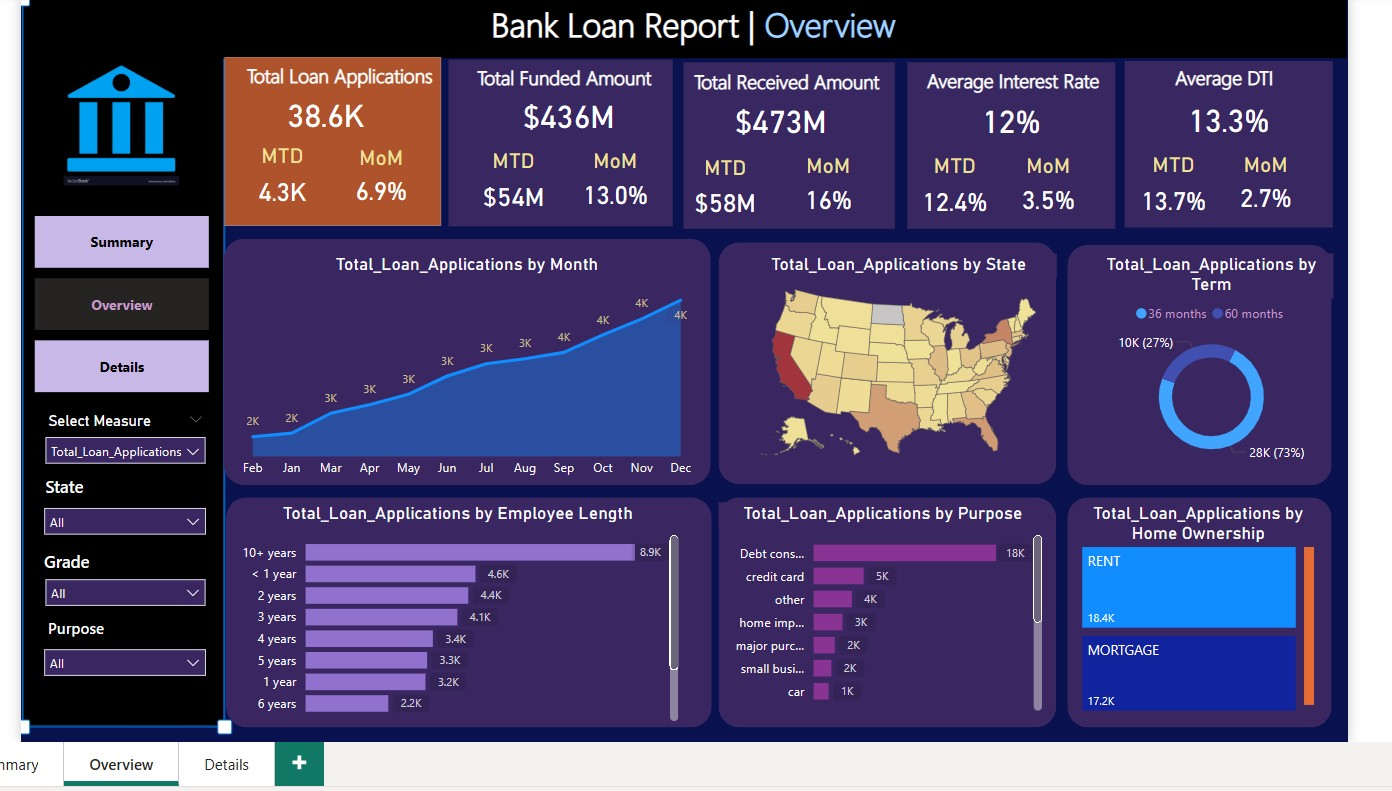

This screenshot's page, from the dashboard's own definition file:
{"tool":"powerbi","page":{"name":"Overview","canvas":[1280,720],"ordinal":1},"visuals":[{"type":"shape","box":[1.4,2.9,194.8,702.6],"z":0},{"type":"shape","box":[1065.1,63.3,201,160.8],"z":0,"group":"g4"},{"type":"shape","box":[855.1,63.5,201,160.8],"z":0,"group":"g3"},{"type":"shape","box":[195.8,233.9,470.3,238.1],"z":0,"group":"g5"},{"type":"textbox","box":[10.8,0,1269.2,60.3],"z":1000},{"type":"card","fields":{"Values":["Bank_loan_data.Average_Debit_To_Income"]},"box":[1089.8,88.1,150,61.8],"z":1000,"group":"g4"},{"type":"card","fields":{"Values":["Bank_loan_data.Average_Interest_Rate"]},"box":[879.9,88.2,150,61.8],"z":1000,"group":"g3"},{"type":"card","title":"MTD","fields":{"Values":["Bank_loan_data.MonthToDate_Average_DTI"]},"box":[1062,151.5,98.9,69.6],"z":2000,"group":"g4"},{"type":"card","title":"MTD","fields":{"Values":["Bank_loan_data.MonthToDate_Average_Interest_Rate"]},"box":[852.1,151.6,98.9,69.6],"z":2000,"group":"g3"},{"type":"shape","box":[673.8,238.1,326.1,233.7],"z":2000},{"type":"textbox","box":[397.3,0,504,68],"z":3000},{"type":"shape","box":[197.5,60.2,208.6,162.2],"z":3000,"group":"g1"},{"type":"shape","box":[412.5,61.8,216.4,160.8],"z":3000,"group":"g2"},{"type":"card","title":"MoM","fields":{"Values":["Bank_loan_data.MonthOnMonth_Avg_DTI"]},"box":[1136.2,151.5,129.9,64.9],"z":3000,"group":"g4"},{"type":"card","title":"MoM","fields":{"Values":["Bank_loan_data.MonthOnMonth_Avg_Interest_Rate"]},"box":[926.3,151.6,129.9,64.9],"z":3000,"group":"g3"},{"type":"textbox","box":[1041.9,61.8,238.1,38.6],"z":4000,"group":"g4"},{"type":"shape","box":[640,63.4,204.1,160.8],"z":4000},{"type":"textbox","box":[838.2,63.8,238.1,38.6],"z":4000,"group":"g3"},{"type":"card","fields":{"Values":["Bank_loan_data.Total_Loan_Applications"]},"box":[220.5,84.4,149.5,60.5],"z":4000,"group":"g1"},{"type":"card","fields":{"Values":["Bank_loan_data.Total_funded_Amount"]},"box":[452.8,84.9,150,60.3],"z":4000,"group":"g2"},{"type":"textbox","box":[197,59.7,222.2,37.5],"z":5000,"group":"g1"},{"type":"textbox","box":[405,61.8,238.1,37.1],"z":5000,"group":"g2"},{"type":"card","fields":{"Values":["Bank_loan_data.Total_Amount_Received"]},"box":[657,89.7,151.5,61.8],"z":5000},{"type":"textbox","box":[619.9,64.9,238.1,38.6],"z":6000},{"type":"card","title":"MTD","fields":{"Values":["Bank_loan_data.MonthToDate_Loan_Applications"]},"box":[203.6,143,99.3,69.5],"z":6000,"group":"g1"},{"type":"card","title":"MTD","fields":{"Values":["Bank_loan_data.MTD Funded Amount"]},"box":[425.8,147.4,98.9,69.6],"z":6000,"group":"g2"},{"type":"card","title":"MoM","fields":{"Values":["Bank_loan_data.MonthOnMonth_Loan_Application"]},"box":[282.5,144.1,130.8,64.6],"z":7000,"group":"g1"},{"type":"card","title":"MoM","fields":{"Values":["Bank_loan_data.MonthOnMonth_Funded_Amount"]},"box":[507.7,147.4,131.4,64.9],"z":7000,"group":"g2"},{"type":"card","title":"MTD","fields":{"Values":["Bank_loan_data.MonthToDate_Total_amount_Received"]},"box":[630.7,153,97.4,69.6],"z":7000},{"type":"card","title":"MoM","fields":{"Values":["Bank_loan_data.MonthOnMonth_Amount_Received"]},"box":[714.2,151.5,129.9,64.9],"z":8000},{"type":"group","id":"g1","title":"Group 1","box":[197,59.7,222.2,162.7],"z":9000},{"type":"group","id":"g2","title":"Group 1","box":[405,61.8,238.1,160.8],"z":10000},{"type":"group","id":"g3","title":"Group 2","box":[838.2,63.5,238.1,160.1],"z":11000},{"type":"group","id":"g4","title":"Group 2","box":[1041.9,61.8,238.1,162.3],"z":12000},{"type":"group","id":"g5","title":"Group 3","box":[195.8,233.9,470.3,238.1],"z":13000},{"type":"slicer","fields":{"Values":["Bank_loan_data.address_state"]},"box":[11.5,483.3,176,54.8],"z":14000},{"type":"shape","box":[1.7,458.6,81.1,29.8],"z":15000},{"type":"slicer","fields":{"Values":["Bank_loan_data.grade"]},"box":[13,552.6,174.6,54.8],"z":16000},{"type":"slicer","fields":{"Values":["Bank_loan_data.purpose"]},"box":[11.5,620.4,176,56.3],"z":17000},{"type":"shape","box":[6.6,526.4,76.2,39.7],"z":18000},{"type":"shape","box":[6,596,94.1,26.5],"z":19000},{"type":"areaChart","fields":{"Y":["Bank_loan_data.Total_Loan_Applications"],"Category":["Date Table.Month"]},"box":[203.4,248.2,453,225.1],"z":20000},{"type":"slicer","fields":{"Values":["Select Measure.Select Measure"]},"box":[13,396.8,174.6,76.5],"z":21000},{"type":"shapeMap","fields":{"Value":["Bank_loan_data.Total_Loan_Applications"],"Category":["Bank_loan_data.address_state"]},"box":[695.4,248.2,304.4,210.6],"z":22000},{"type":"shape","box":[1009.9,239.5,255.4,232.3],"z":23000},{"type":"donutChart","fields":{"Y":["Bank_loan_data.Total_Loan_Applications"],"Category":["Bank_loan_data.term"]},"box":[1031.6,248.2,235.2,210.6],"z":24000},{"type":"shape","box":[197.7,483.3,468.9,222.2],"z":25000},{"type":"barChart","fields":{"Y":["Bank_loan_data.Total_Loan_Applications"],"Category":["Bank_loan_data.emp_length"]},"box":[203.4,489.1,435.7,216.4],"z":26000},{"type":"shape","box":[673.8,483.3,326.1,222.2],"z":27000},{"type":"barChart","fields":{"Y":["Bank_loan_data.Total_Loan_Applications"],"Category":["Bank_loan_data.purpose"]},"box":[673.8,489.1,317.4,206.3],"z":28000},{"type":"shape","box":[1009.9,483.3,255.4,222.2],"z":29000},{"type":"treemap","fields":{"Values":["Bank_loan_data.Total_Loan_Applications"],"Group":["Bank_loan_data.home_ownership"]},"box":[1020,489.1,233.7,206.3],"z":30000},{"type":"image","box":[5.8,57.7,181.8,129.8],"z":31000},{"type":"pageNavigator","box":[13,212.1,168.8,170.2],"z":32000}]}

Visuals, with their boxes on the page's 1280x720 design canvas (x1, y1, x2, y2). These are canvas units, not pixel positions in the 1392x791 screenshot, which may show the page scaled, cropped or inside an application window:
shape: [left=1, top=3, right=196, bottom=706]
shape: [left=1065, top=63, right=1266, bottom=224]
shape: [left=855, top=64, right=1056, bottom=224]
shape: [left=196, top=234, right=666, bottom=472]
textbox: [left=11, top=0, right=1280, bottom=60]
card - Bank_loan_data.Average_Debit_To_Income: [left=1090, top=88, right=1240, bottom=150]
card - Bank_loan_data.Average_Interest_Rate: [left=880, top=88, right=1030, bottom=150]
"MTD" card: [left=1062, top=152, right=1161, bottom=221]
"MTD" card: [left=852, top=152, right=951, bottom=221]
shape: [left=674, top=238, right=1000, bottom=472]
textbox: [left=397, top=0, right=901, bottom=68]
shape: [left=198, top=60, right=406, bottom=222]
shape: [left=412, top=62, right=629, bottom=223]
"MoM" card: [left=1136, top=152, right=1266, bottom=216]
"MoM" card: [left=926, top=152, right=1056, bottom=216]
textbox: [left=1042, top=62, right=1280, bottom=100]
shape: [left=640, top=63, right=844, bottom=224]
textbox: [left=838, top=64, right=1076, bottom=102]
card - Bank_loan_data.Total_Loan_Applications: [left=220, top=84, right=370, bottom=145]
card - Bank_loan_data.Total_funded_Amount: [left=453, top=85, right=603, bottom=145]
textbox: [left=197, top=60, right=419, bottom=97]
textbox: [left=405, top=62, right=643, bottom=99]
card - Bank_loan_data.Total_Amount_Received: [left=657, top=90, right=808, bottom=152]
textbox: [left=620, top=65, right=858, bottom=104]
"MTD" card: [left=204, top=143, right=303, bottom=212]
"MTD" card: [left=426, top=147, right=525, bottom=217]
"MoM" card: [left=282, top=144, right=413, bottom=209]
"MoM" card: [left=508, top=147, right=639, bottom=212]
"MTD" card: [left=631, top=153, right=728, bottom=223]
"MoM" card: [left=714, top=152, right=844, bottom=216]
"Group 1" group: [left=197, top=60, right=419, bottom=222]
"Group 1" group: [left=405, top=62, right=643, bottom=223]
"Group 2" group: [left=838, top=64, right=1076, bottom=224]
"Group 2" group: [left=1042, top=62, right=1280, bottom=224]
"Group 3" group: [left=196, top=234, right=666, bottom=472]
slicer - Bank_loan_data.address_state: [left=12, top=483, right=188, bottom=538]
shape: [left=2, top=459, right=83, bottom=488]
slicer - Bank_loan_data.grade: [left=13, top=553, right=188, bottom=607]
slicer - Bank_loan_data.purpose: [left=12, top=620, right=188, bottom=677]
shape: [left=7, top=526, right=83, bottom=566]
shape: [left=6, top=596, right=100, bottom=622]
areaChart - Bank_loan_data.Total_Loan_Applications x Date Table.Month: [left=203, top=248, right=656, bottom=473]
slicer - Select Measure.Select Measure: [left=13, top=397, right=188, bottom=473]
shapeMap - Bank_loan_data.Total_Loan_Applications x Bank_loan_data.address_state: [left=695, top=248, right=1000, bottom=459]
shape: [left=1010, top=240, right=1265, bottom=472]
donutChart - Bank_loan_data.Total_Loan_Applications x Bank_loan_data.term: [left=1032, top=248, right=1267, bottom=459]
shape: [left=198, top=483, right=667, bottom=706]
barChart - Bank_loan_data.Total_Loan_Applications x Bank_loan_data.emp_length: [left=203, top=489, right=639, bottom=706]
shape: [left=674, top=483, right=1000, bottom=706]
barChart - Bank_loan_data.Total_Loan_Applications x Bank_loan_data.purpose: [left=674, top=489, right=991, bottom=695]
shape: [left=1010, top=483, right=1265, bottom=706]
treemap - Bank_loan_data.Total_Loan_Applications x Bank_loan_data.home_ownership: [left=1020, top=489, right=1254, bottom=695]
image: [left=6, top=58, right=188, bottom=188]
pageNavigator: [left=13, top=212, right=182, bottom=382]
